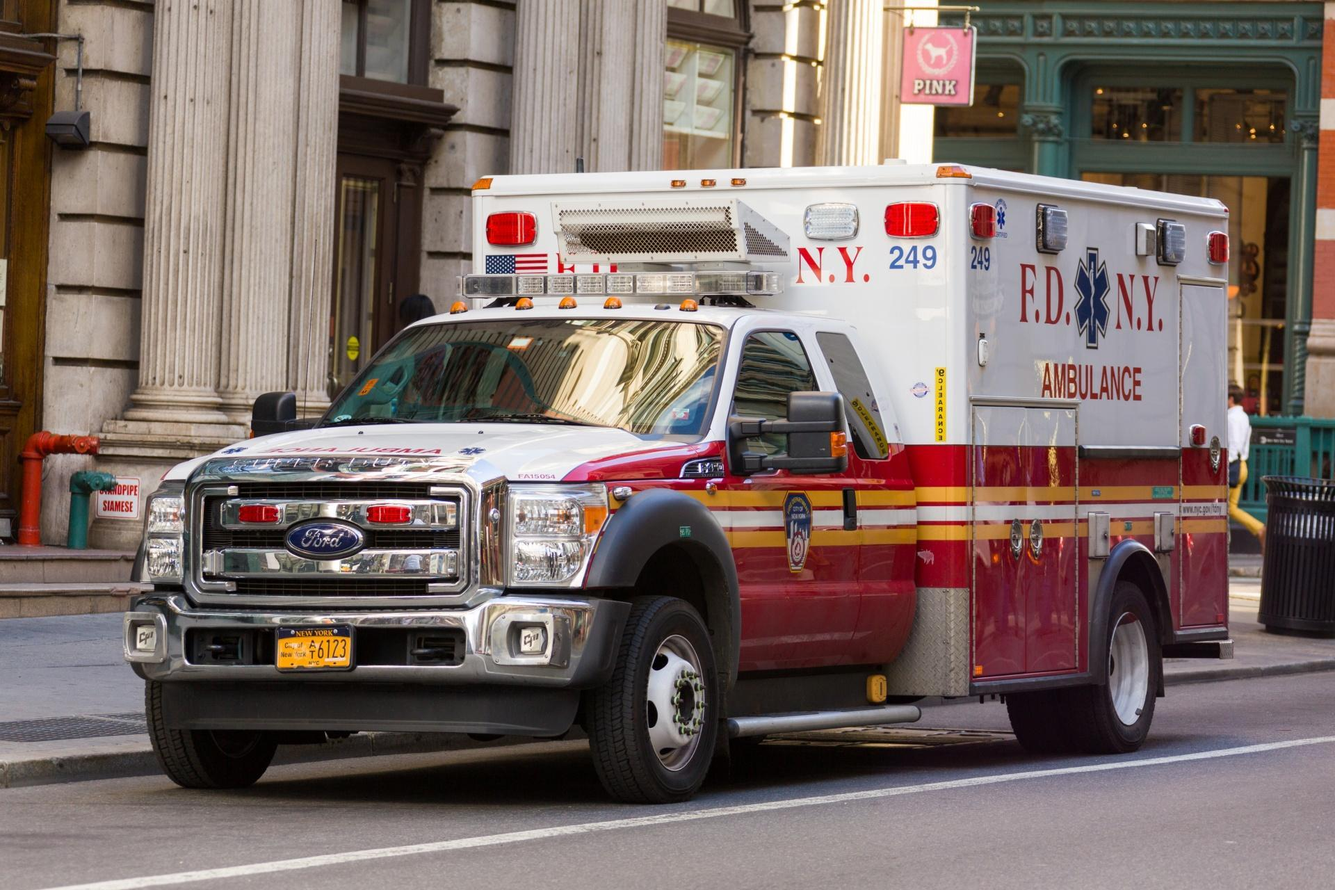Ambulance: (1013, 343, 1165, 426)
